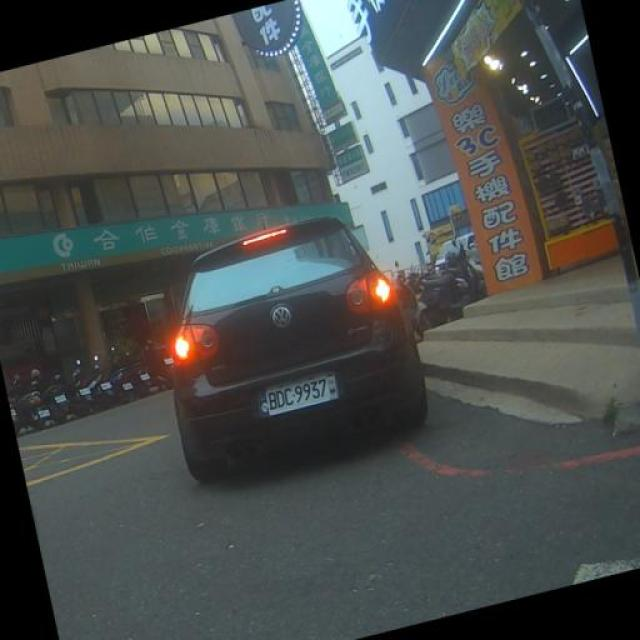illegalparking: (144, 210, 470, 514)
